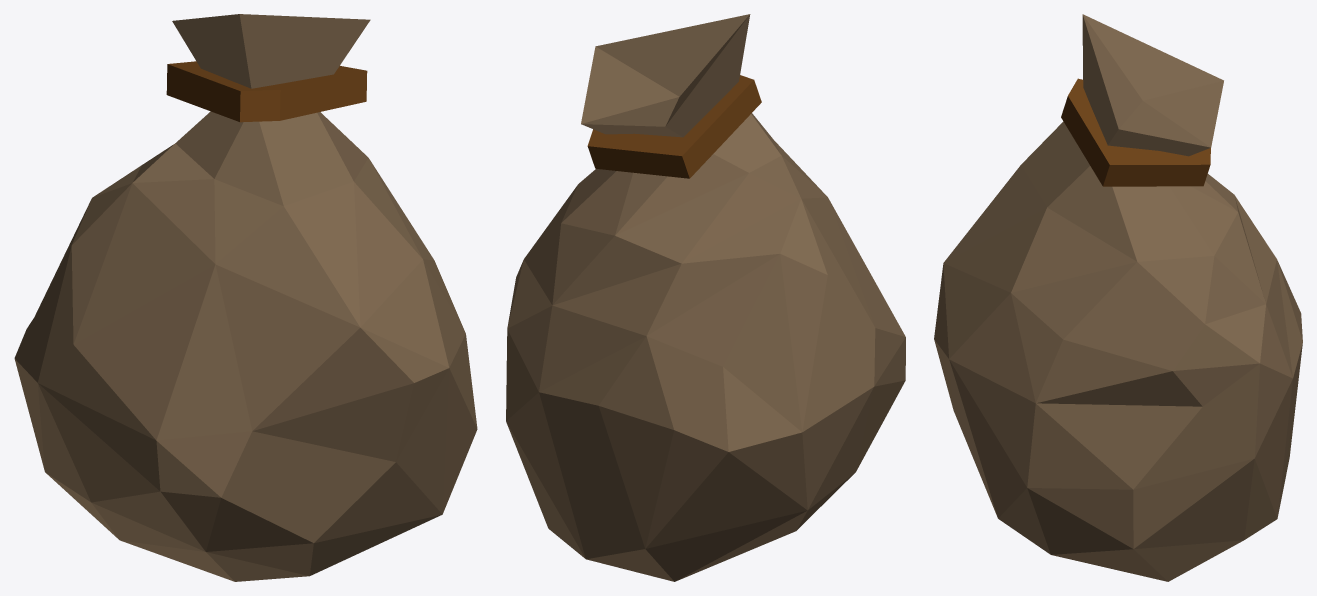
The model's file is Sack2.fbx.
3 views of the same model, side by side, from view 1: azimuth 30°, elevation 25°; view 2: azimuth 150°, elevation 25°; view 3: azimuth 270°, elevation 25° (orthographic). The views are drawn at different scales.
Visible parts, largest first — view 1: Sack2; view 2: Sack2; view 3: Sack2.
Boxes of the visible parts, <box> form: Sack2: <box>14,14,477,581</box>; Sack2: <box>506,14,905,581</box>; Sack2: <box>934,14,1302,581</box>.
Bounding box in the file's own units: 0.4349 × 0.4048 × 0.6365.
